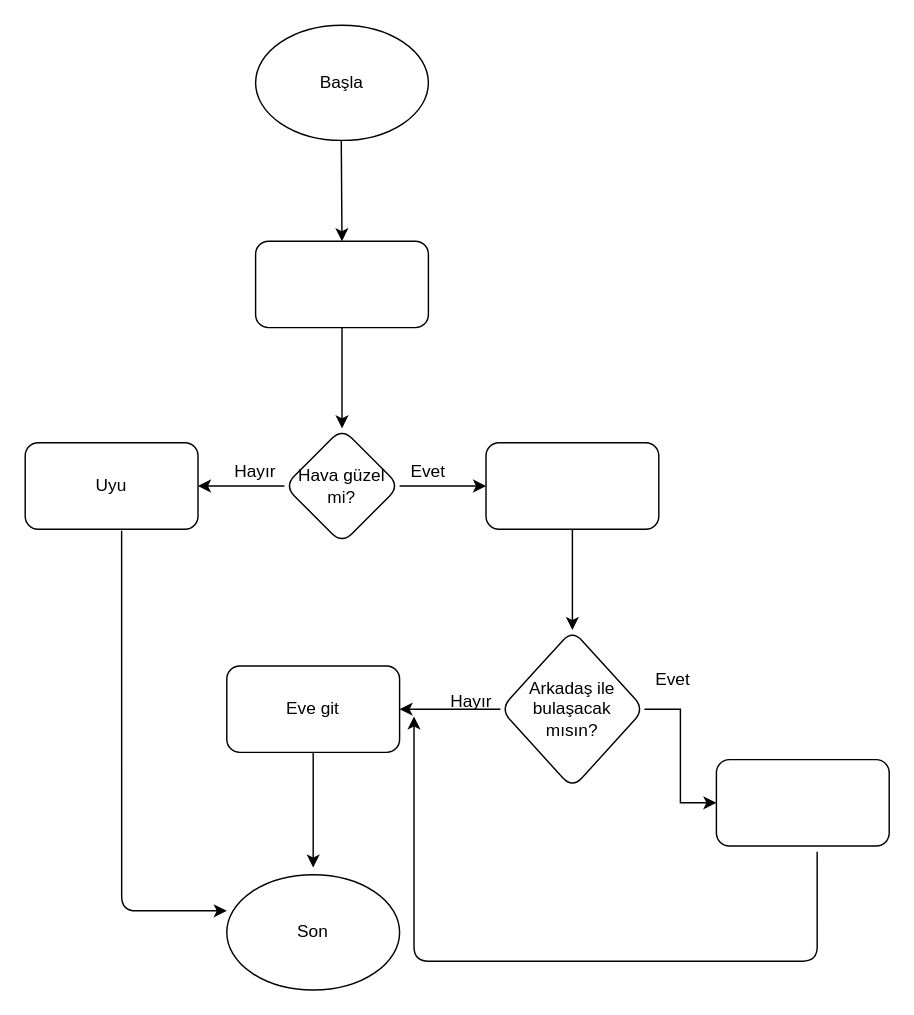
Some shapes in this 914 by 1015 pixel diagram are drawn without their labels. Each missing label, with the box of its shape:
Kafeye git: (715, 758, 889, 846)
Kalk: (254, 240, 428, 328)
Yürü: (485, 441, 659, 529)
